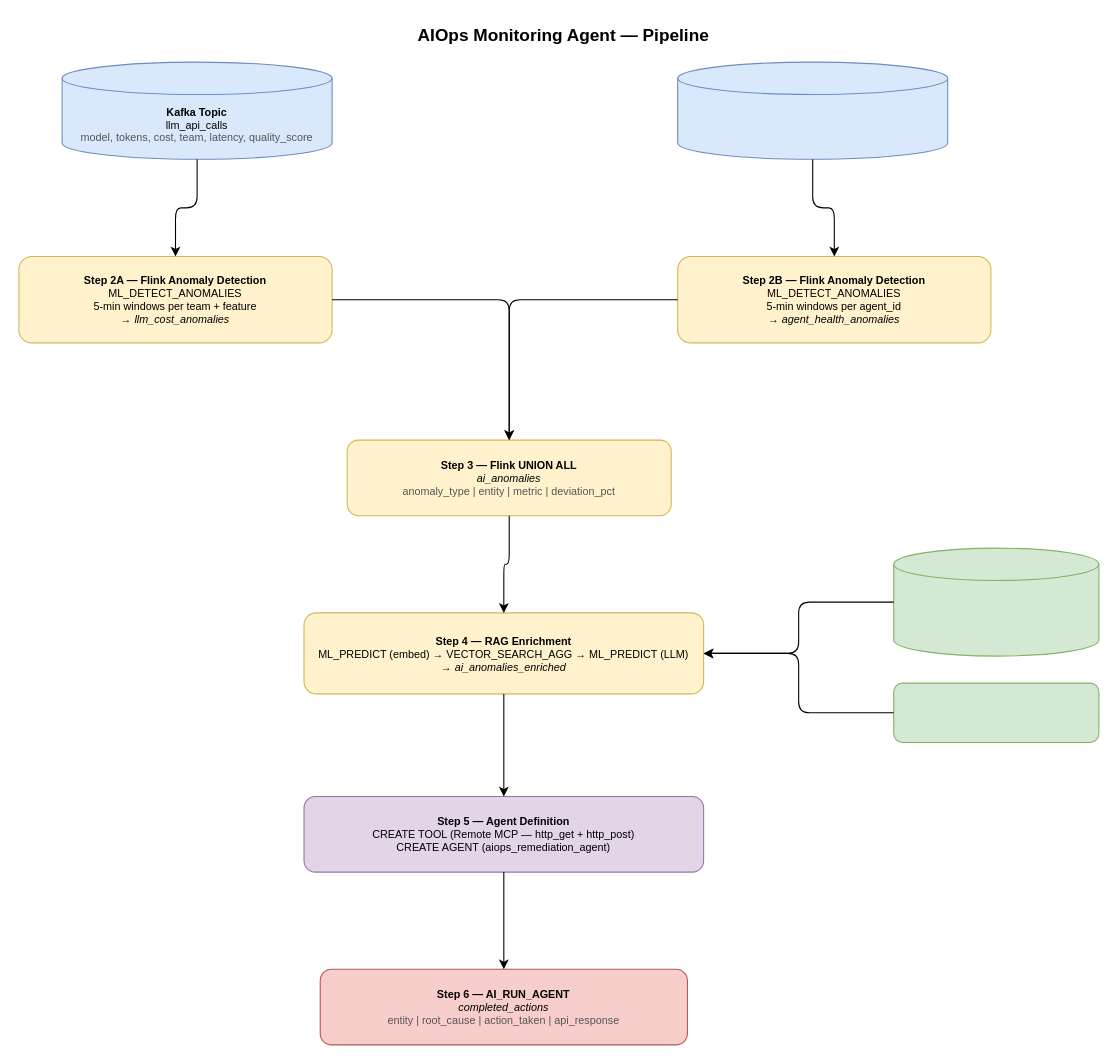
This 1118x1064 diagram has some shape labels left out. The centre of each missing label's shape, as x and y in pixels:
Azure OpenAI Embedding + Text Generation: the point at 996,712
Kafka Topic agent_traces agent_id, tool, status, loop_count, errors, tokens: the point at 812,110
MongoDB Atlas Vector Search optimization strategies + failure patterns: the point at 996,601
